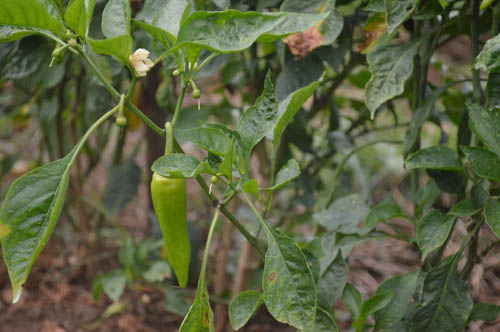ChiliPepper: (150, 174, 191, 288)
